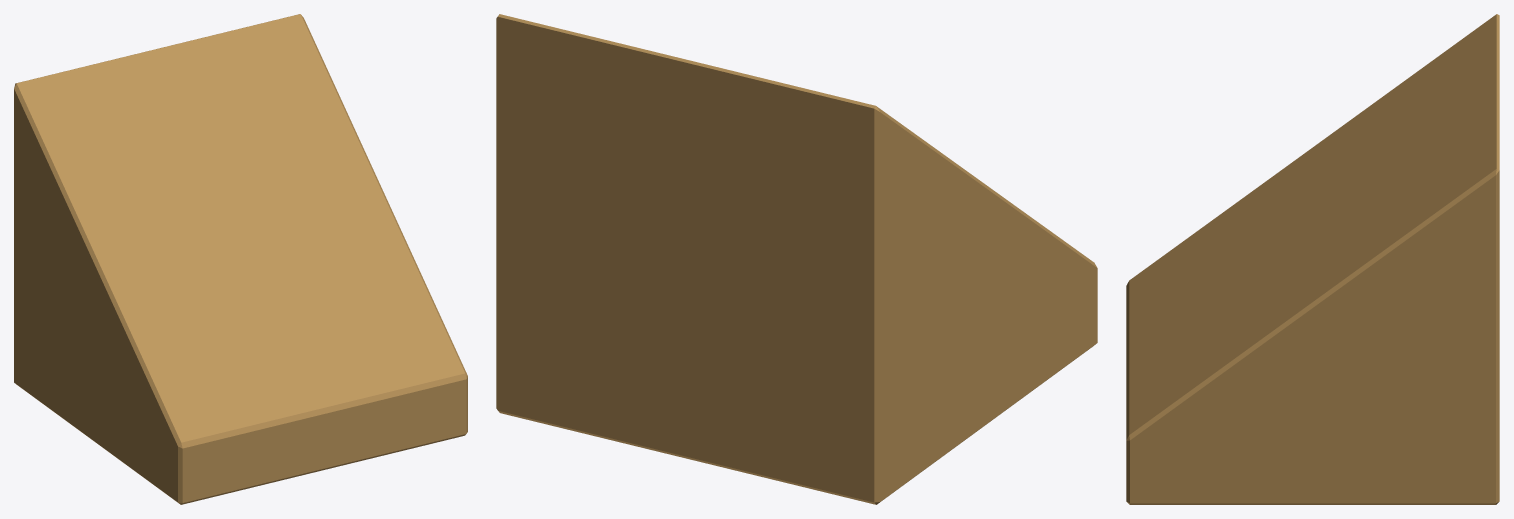
File: HJD_FP_ramp00.fbx
The picture shows the model from 3 angles, left to right: view 1: azimuth 30°, elevation 25°; view 2: azimuth 150°, elevation 25°; view 3: azimuth 270°, elevation 25°; orthographic projection. The views are drawn at different scales.
Visible parts, largest first — view 1: transform_unity_scale17; view 2: transform_unity_scale17; view 3: transform_unity_scale17.
Boxes of the visible parts, x1,y1,x2,y2 form: transform_unity_scale17: (14, 14, 467, 504); transform_unity_scale17: (496, 14, 1097, 504); transform_unity_scale17: (1126, 14, 1499, 504).
Bounding box in the file's own units: 100 × 99.38 × 100.
